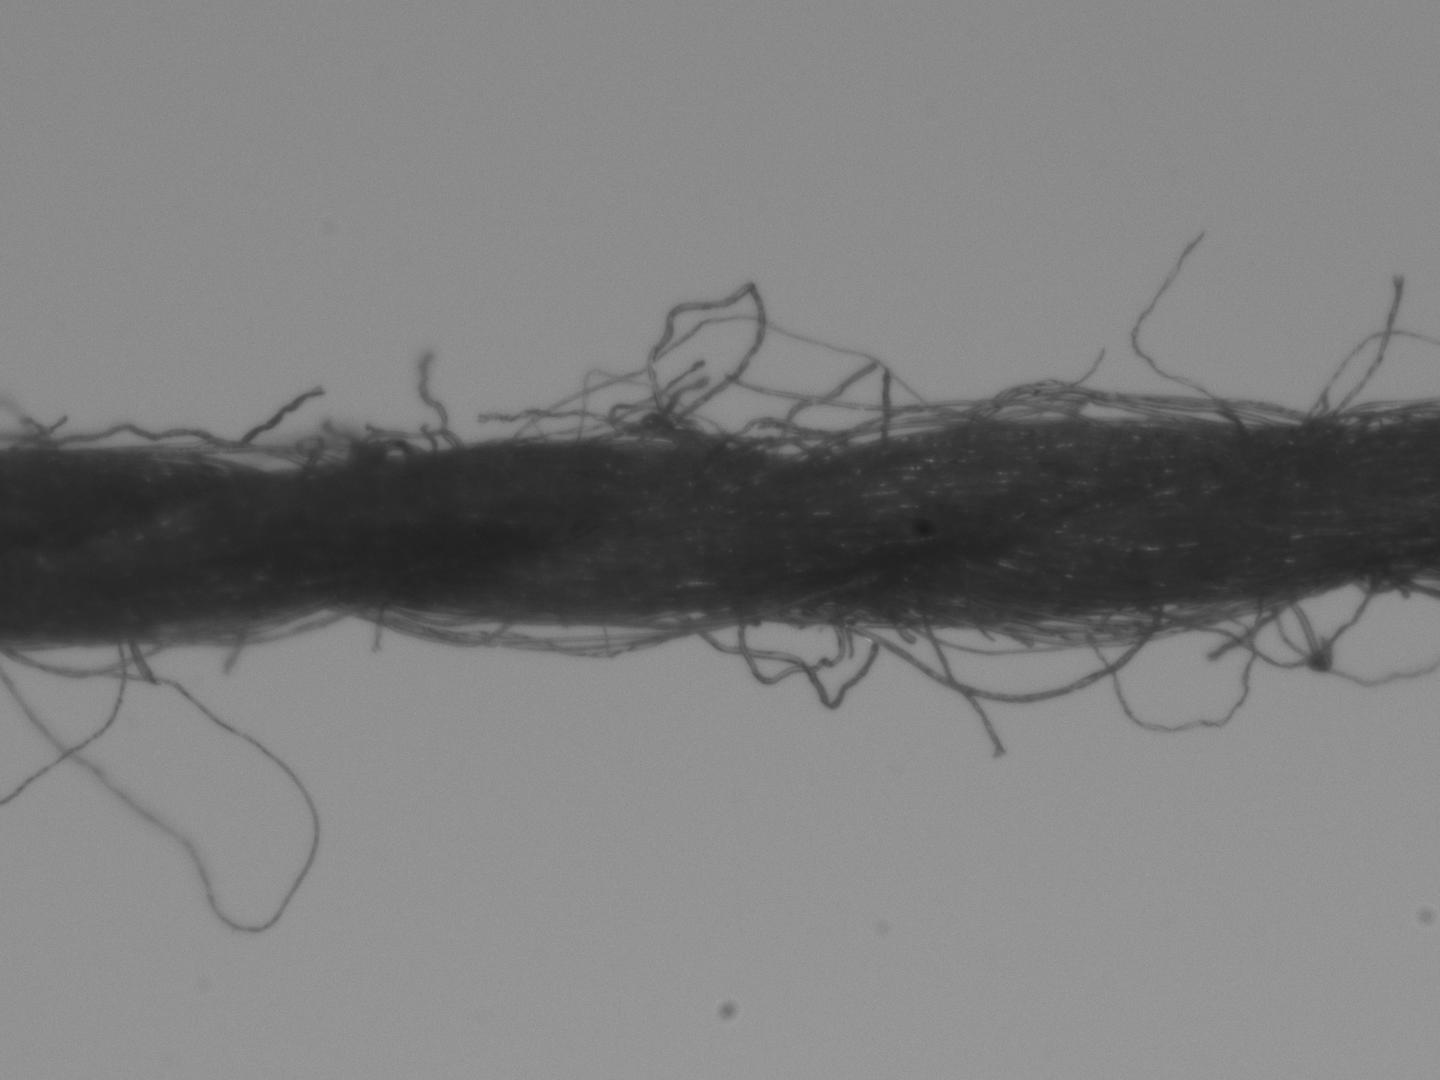loop_fiber: (365, 602, 728, 658), (989, 381, 1314, 427), (997, 596, 1259, 646), (818, 400, 981, 461), (735, 613, 840, 682), (189, 599, 340, 647), (5, 641, 156, 680), (712, 414, 846, 456), (200, 444, 322, 474), (349, 433, 421, 467), (1335, 406, 1413, 431)
protruding_fiber: (1129, 229, 1237, 421), (921, 613, 1005, 748), (1331, 276, 1401, 416), (780, 357, 878, 446), (421, 353, 456, 456), (878, 366, 893, 442), (370, 596, 390, 652)
